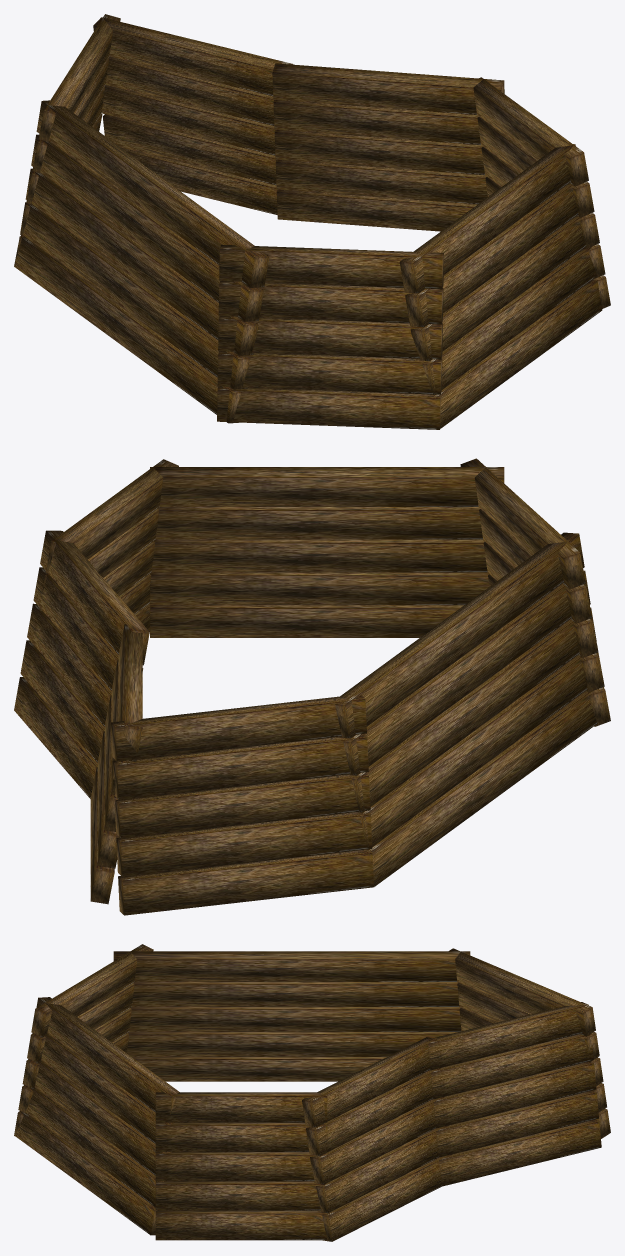
The model's file is WoodenBarrierPartTest05.obj.
3 views of the same model, one above another, from view 1: azimuth 30°, elevation 25°; view 2: azimuth 150°, elevation 25°; view 3: azimuth 270°, elevation 25° (orthographic). The views are drawn at different scales.
Visible parts, largest first — view 1: Box002; view 2: Box002; view 3: Box002.
Part boxes in pixels (x1,y1,x2,y2): Box002: (14, 14, 610, 429); Box002: (14, 458, 610, 915); Box002: (14, 944, 610, 1241).
Size of the model in its own units: 172 by 63.84 by 255.
